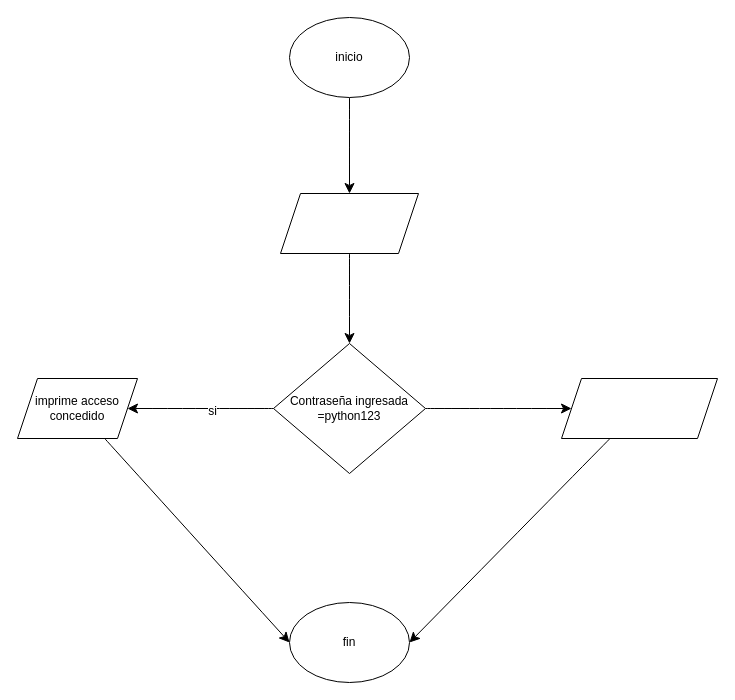
Image size: 735x700. Some labels were removed from this diagram. The centre of each missing label's shape, as x and y in pixels:
"imprime contraseña incorrecta" goes at point 639,408.
"ingrese contraseña" goes at point 349,223.
